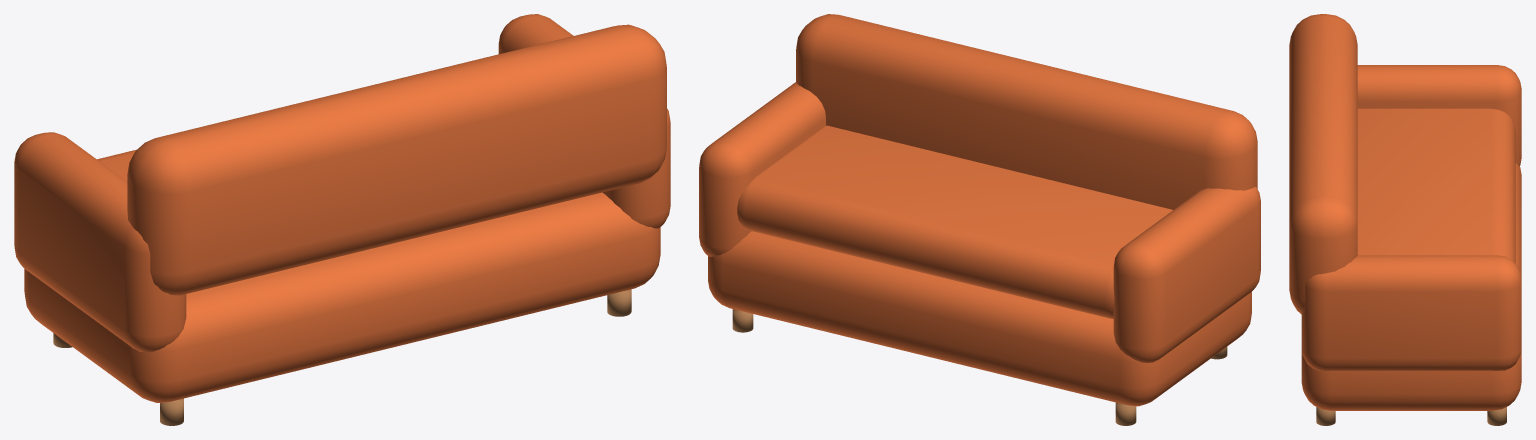
The model's file is sofa.glb.
The picture shows the model from 3 angles, left to right: view 1: azimuth 30°, elevation 25°; view 2: azimuth 150°, elevation 25°; view 3: azimuth 270°, elevation 25°; orthographic projection. The views are drawn at different scales.
Parts seen in each view (by area): view 1: back, base, arm, arm.001; view 2: back, seat, base, arm, arm.001; view 3: arm.001, seat, back, base, arm, leg.002, leg.003.
Boxes of the visible parts, box(x1,y1,x2,y2) form: back: box(127, 24, 666, 295); base: box(24, 192, 660, 402); arm: box(14, 132, 186, 352); arm.001: box(498, 14, 670, 228); back: box(796, 14, 1257, 209); seat: box(737, 125, 1172, 318); base: box(708, 231, 1251, 406); arm: box(1113, 187, 1260, 362); arm.001: box(699, 82, 825, 256); arm.001: box(1301, 255, 1521, 370); seat: box(1357, 108, 1515, 262); back: box(1289, 14, 1357, 314); base: box(1301, 163, 1521, 410); arm: box(1357, 65, 1521, 165); leg.002: box(1316, 407, 1335, 425); leg.003: box(1487, 407, 1506, 425).
Bounding box in the file's own units: 2.06 × 1.03 × 0.95.
